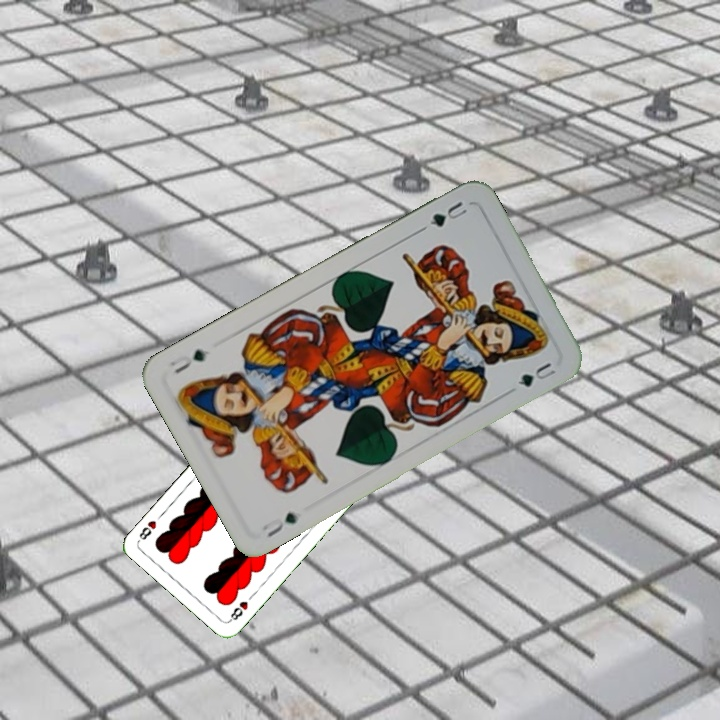GU: (417, 197, 470, 233), (257, 508, 302, 540)
H8: (225, 597, 251, 624)
